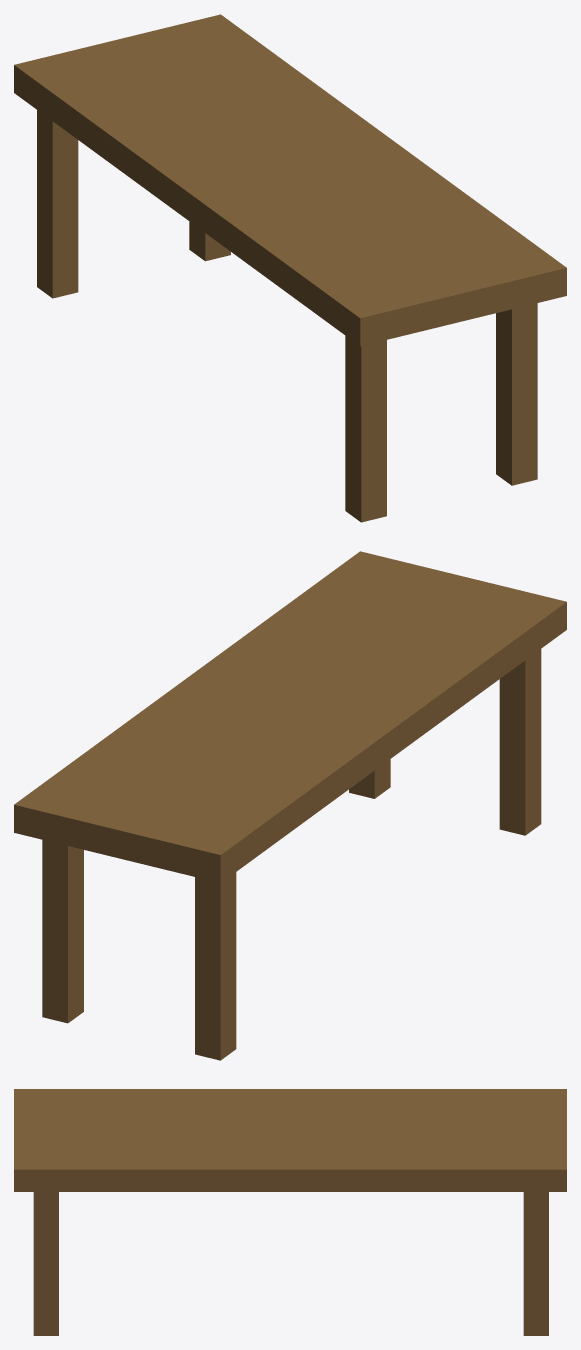
The model's file is стол.fbx.
3 renders of one model, top to bottom at view 1: azimuth 30°, elevation 25°; view 2: azimuth 150°, elevation 25°; view 3: azimuth 270°, elevation 25°, orthographic. The views are drawn at different scales.
Visible parts, largest first — view 1: стол; view 2: стол; view 3: стол.
Boxes of the visible parts, <box> form: стол: <box>14,14,566,522</box>; стол: <box>14,551,566,1060</box>; стол: <box>14,1089,566,1335</box>.
Bounding box in the file's own units: 106 × 106 × 308.
